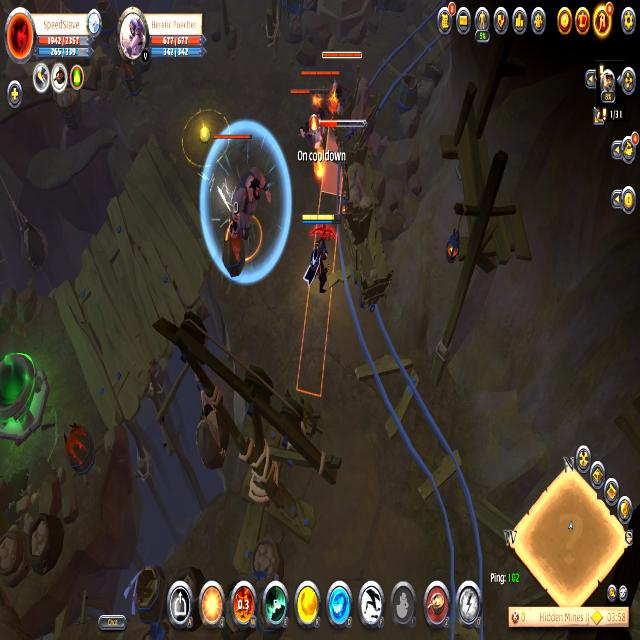ore: (216, 125, 264, 263), (322, 45, 366, 124), (290, 84, 322, 164), (299, 69, 347, 103)
red: (302, 210, 338, 298)
silver: (292, 124, 343, 402)
